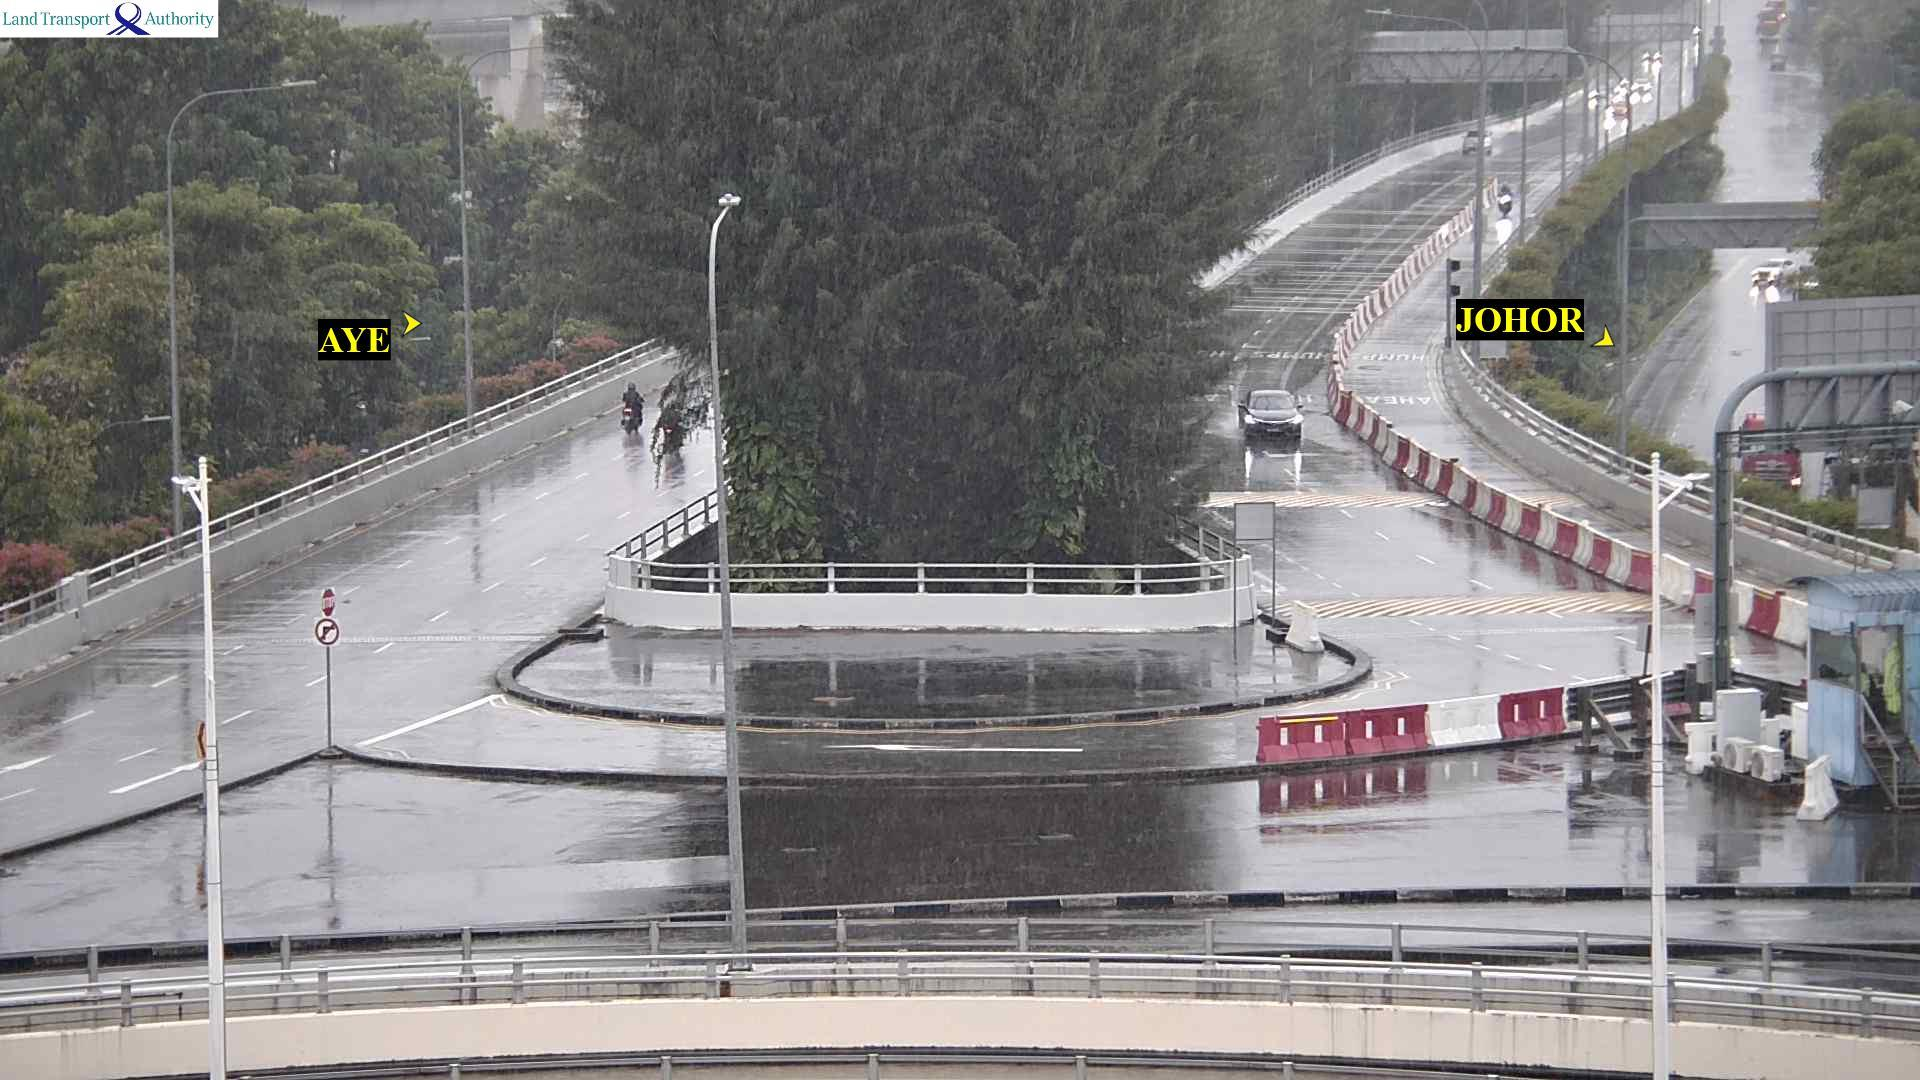vehicle-secondlink-johor: (1236, 390, 1302, 444), (1464, 128, 1489, 153), (1495, 182, 1513, 218), (1631, 87, 1654, 104), (1610, 103, 1626, 120), (1593, 92, 1605, 108)
vehicle-secondlink-singapore: (618, 386, 645, 429)
